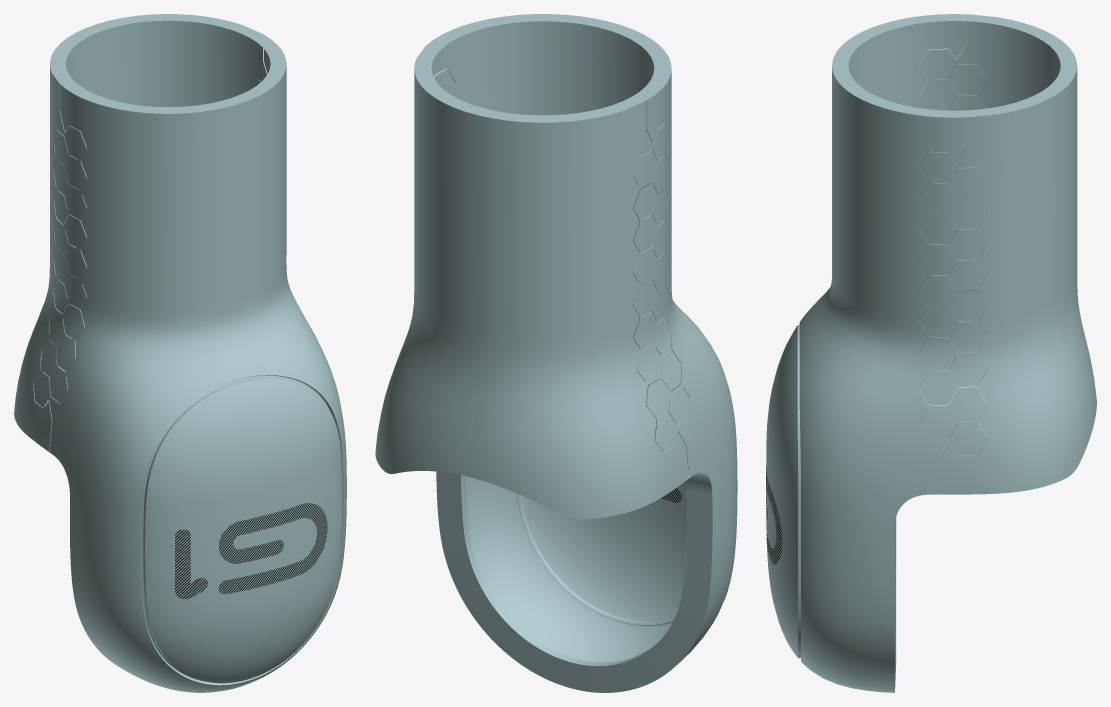
File: left_arm_link2.obj
3 views of the same model, side by side, from view 1: azimuth 30°, elevation 25°; view 2: azimuth 150°, elevation 25°; view 3: azimuth 270°, elevation 25° (orthographic). The views are drawn at different scales.
Parts seen in each view (by area): view 1: 1, 2; view 2: 1; view 3: 1, 2.
Boxes of the visible parts, <box> form: 1: <box>14,14,346,692</box>; 2: <box>174,503,327,599</box>; 1: <box>375,14,737,692</box>; 1: <box>766,14,1096,692</box>; 2: <box>766,467,782,564</box>.
Size of the model in its own units: 0.1089 by 0.2423 by 0.1185.
